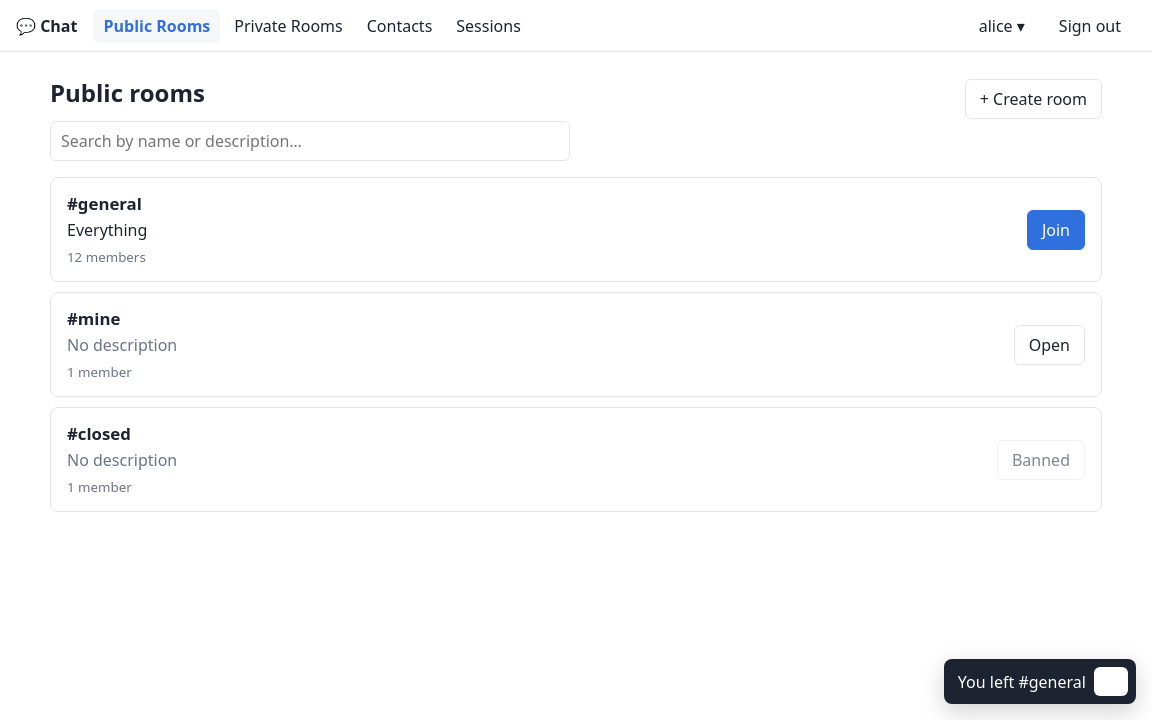
catalog › tells a banned user why joining failed
Click the button "Join": x=1056, y=230 left=1027, top=210, right=1085, bottom=250
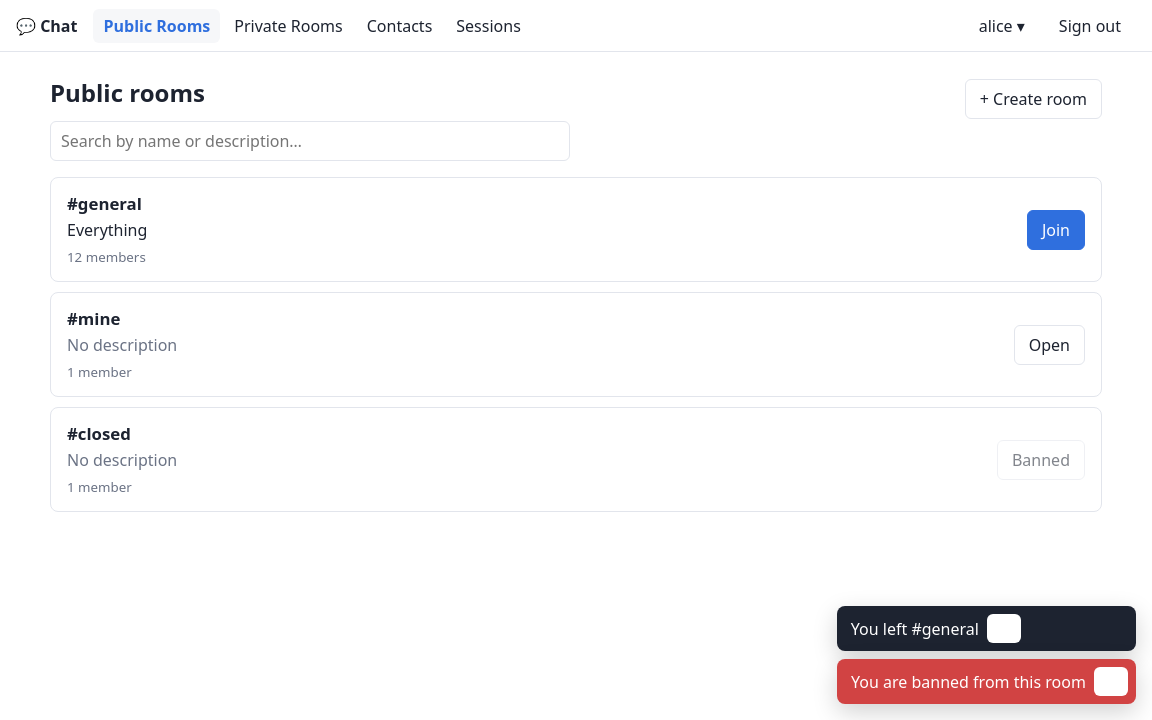
Now the text "You are banned from this room" is shown, box left=851, top=670, right=1086, bottom=692
